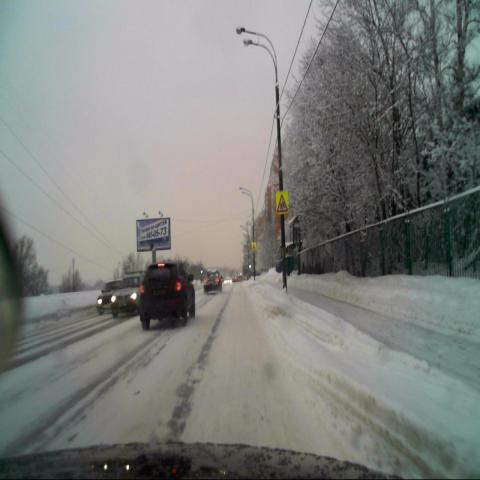1_23: (276, 190, 289, 215)
